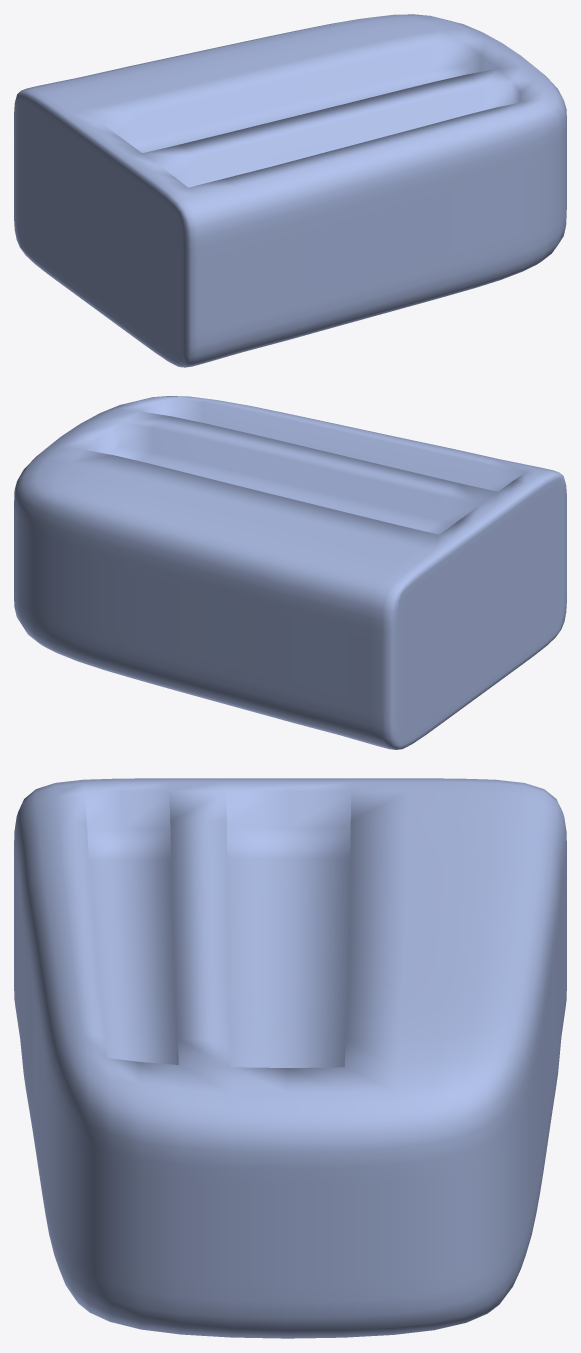
The model's file is SlimeRupa2.fbx.
3 renders of one model, top to bottom at view 1: azimuth 30°, elevation 25°; view 2: azimuth 150°, elevation 25°; view 3: azimuth 270°, elevation 25°, orthographic. The views are drawn at different scales.
Parts seen in each view (by area): view 1: Slime; view 2: Slime; view 3: Slime.
Boxes of the visible parts, x1,y1,x2,y2 form: Slime: [14, 14, 566, 367]; Slime: [14, 396, 566, 749]; Slime: [14, 778, 566, 1338].
Size of the model in its own units: 0.4401 by 0.1682 by 0.3147.
